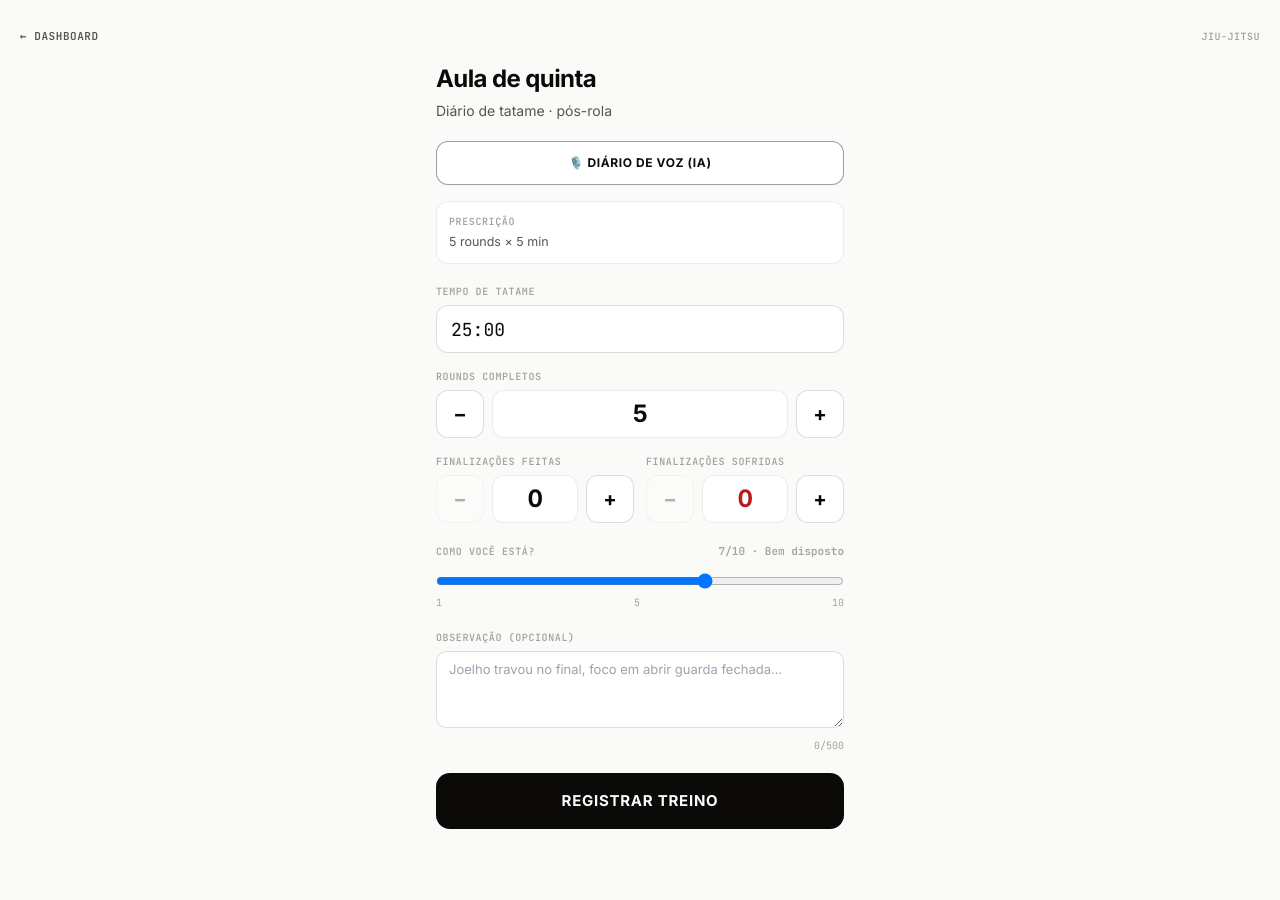
it: JiuJitsuLive — UI fricção-zero (PR #23) › matTime inválido bloqueia submit + exibe erro
The width and height of the screenshot is (1280, 900).
Replace the text in the field with placeholder "ex: 45:00 ou 1:30:00" with "abc": [640, 329] box [436, 305, 844, 353]
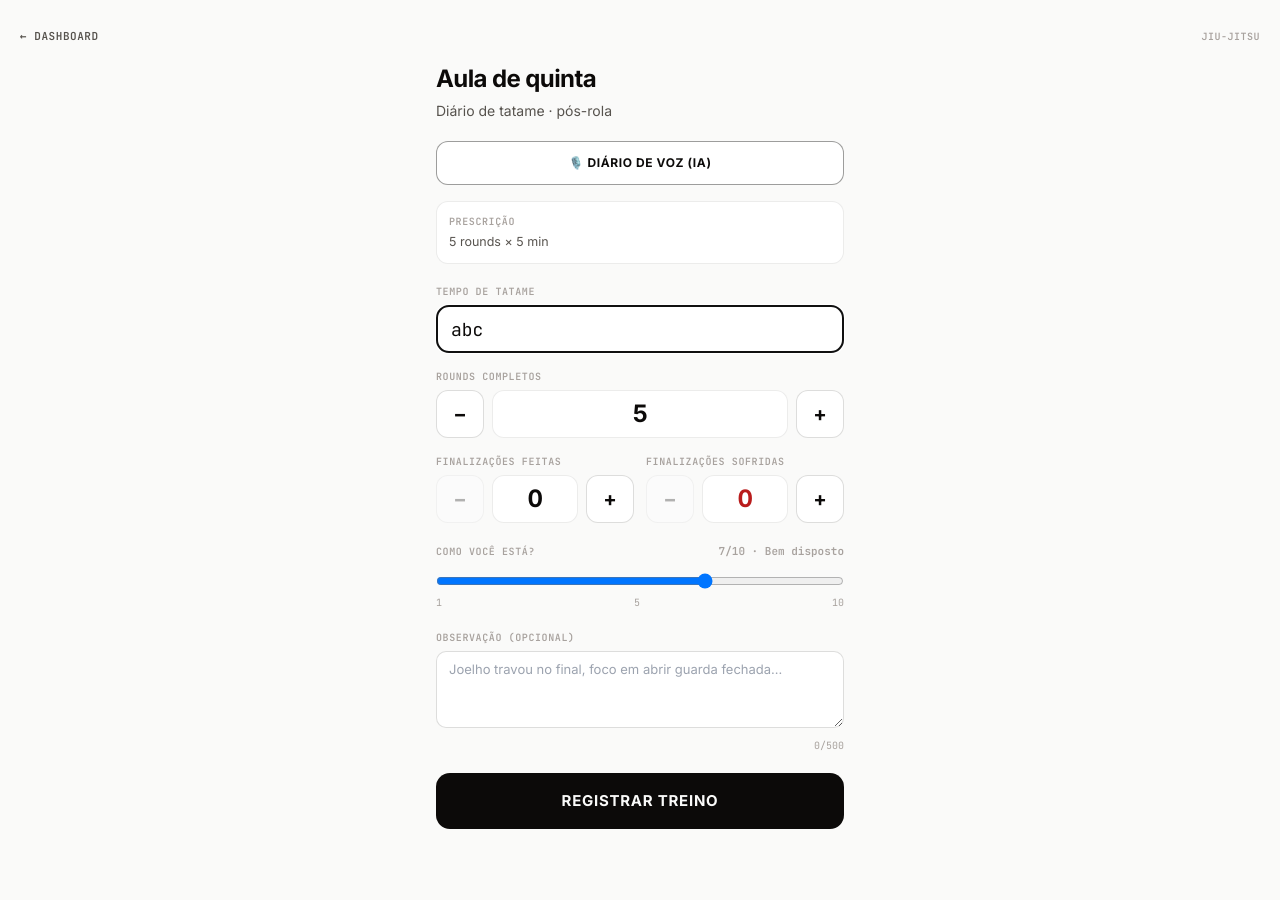
Click the button "Registrar treino": [640, 801] box [436, 773, 844, 829]
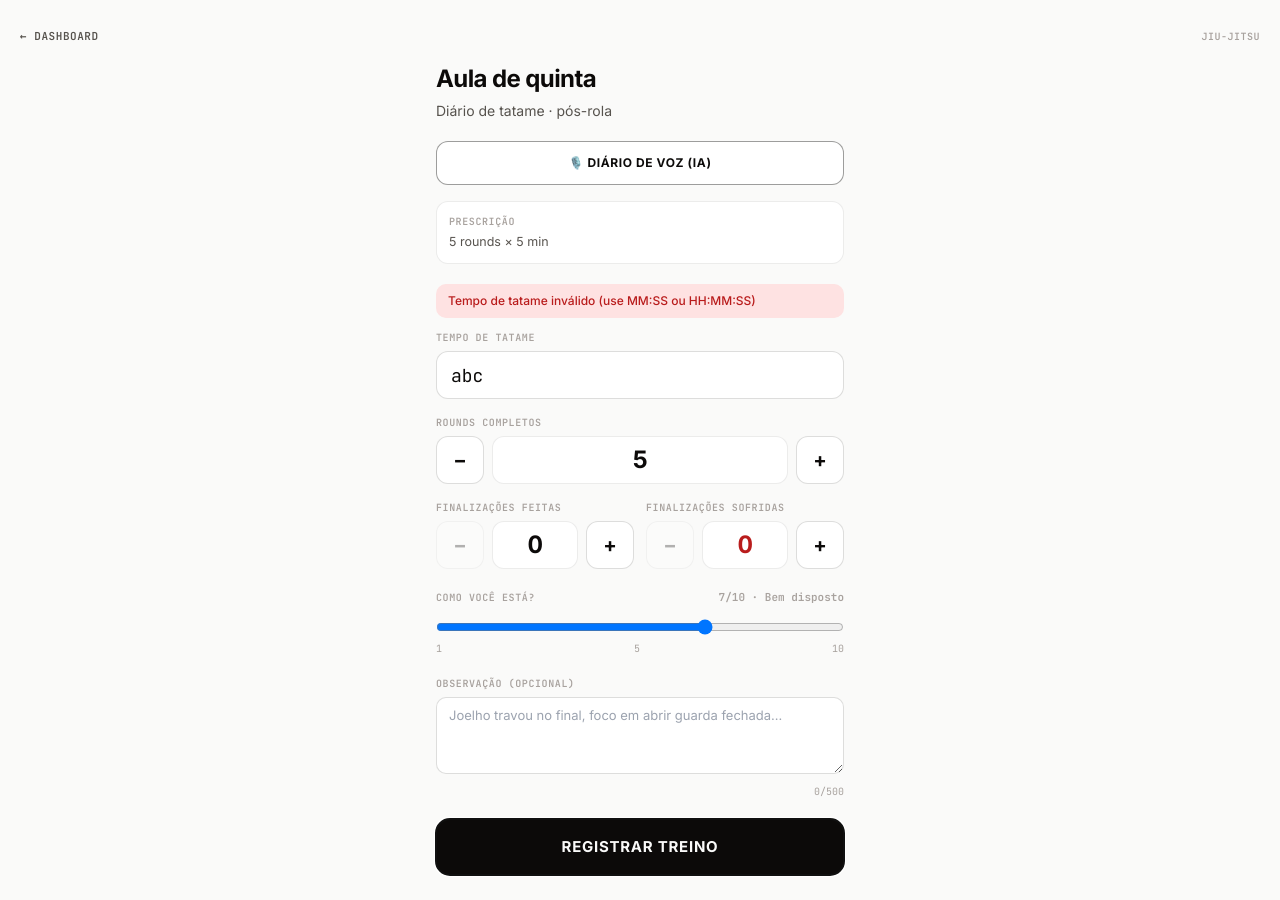
Check: the text "Tempo de tatame inválido (use MM:SS ou HH:MM:SS)" is shown, box [436, 284, 844, 318]
